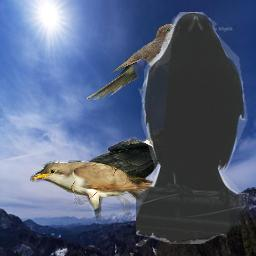Crow: (136, 12, 249, 244), (59, 128, 179, 202)
Cuckoo: (30, 160, 158, 221), (86, 22, 184, 101)
